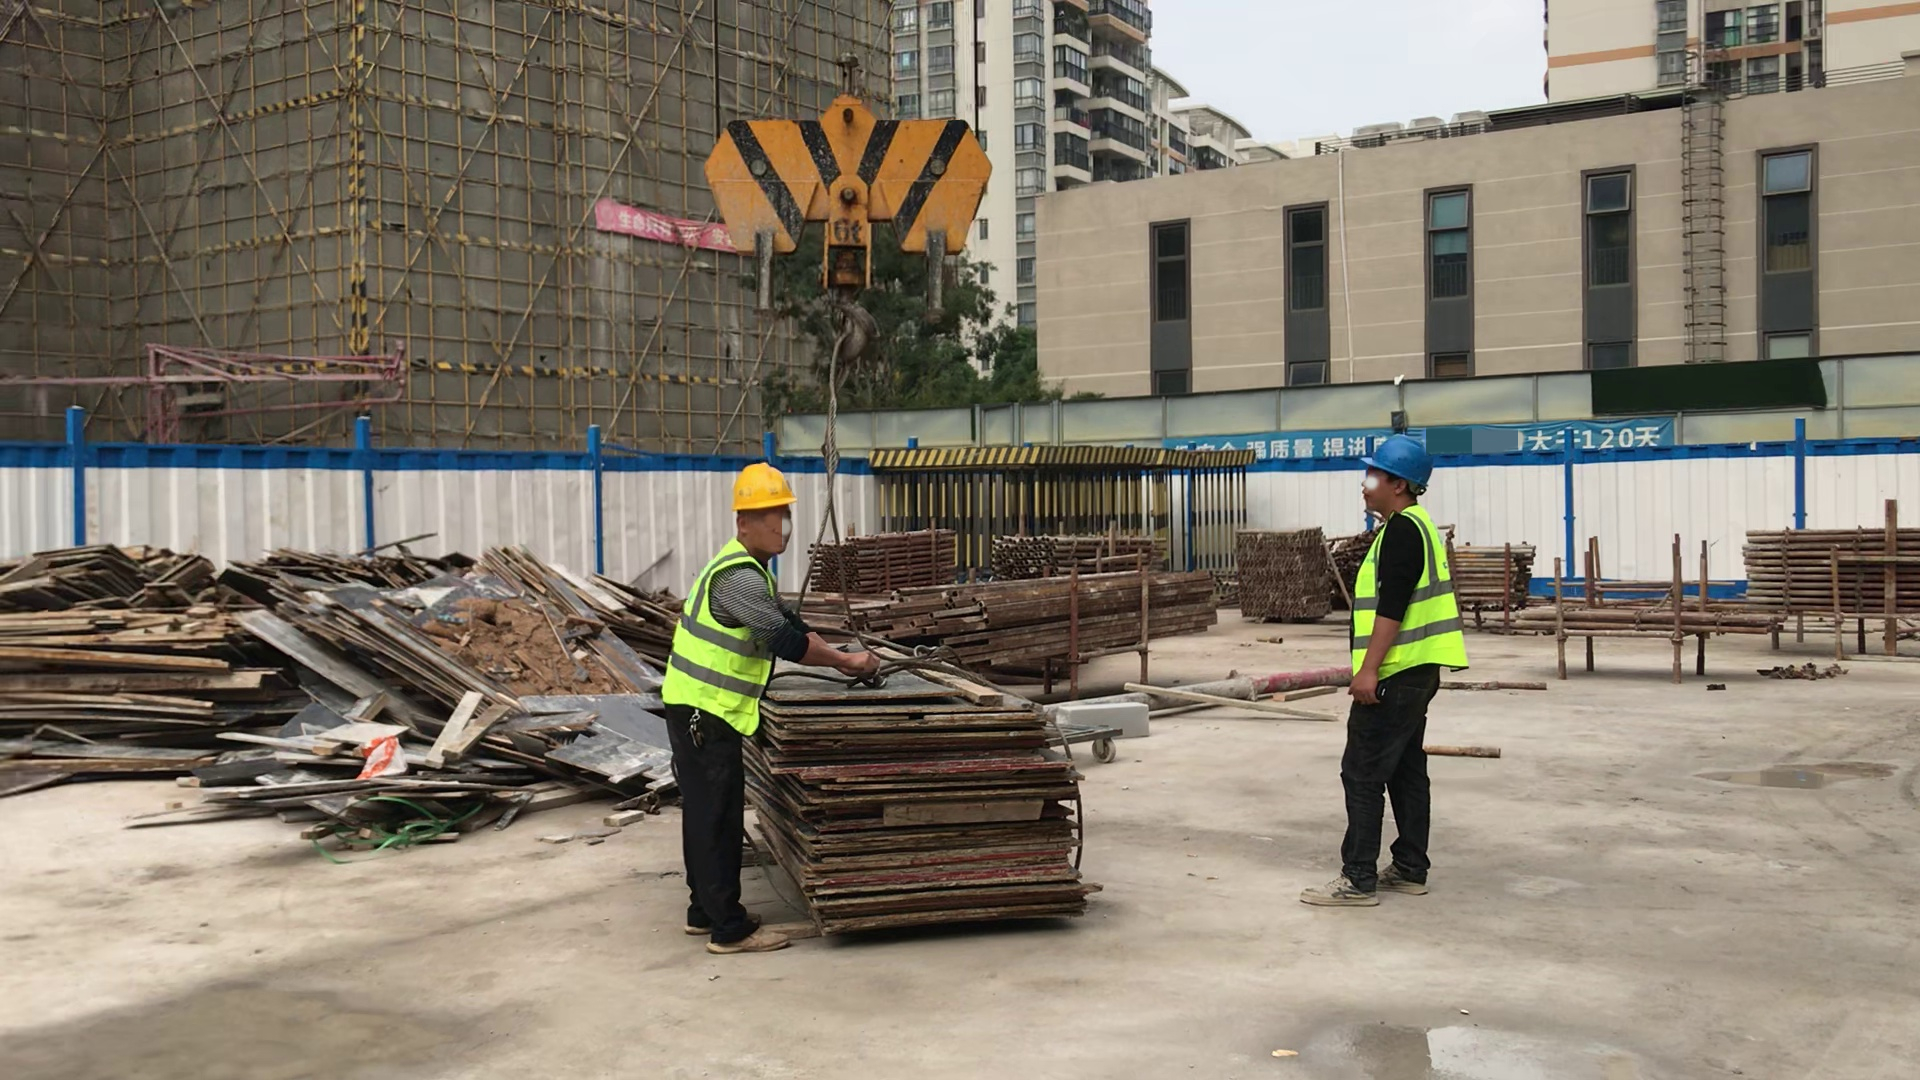board: (750, 690, 1110, 936)
helmet: (1352, 435, 1431, 486), (729, 462, 796, 516)
hook: (699, 94, 998, 371)
person: (663, 456, 877, 953), (1317, 439, 1441, 905)
scaffold: (1741, 529, 1918, 622), (1240, 527, 1329, 618), (820, 530, 959, 587), (992, 534, 1161, 578), (1461, 544, 1531, 609)
slogan: (1247, 423, 1662, 456), (591, 193, 722, 254)
vest: (1350, 502, 1469, 695), (669, 538, 773, 738)
